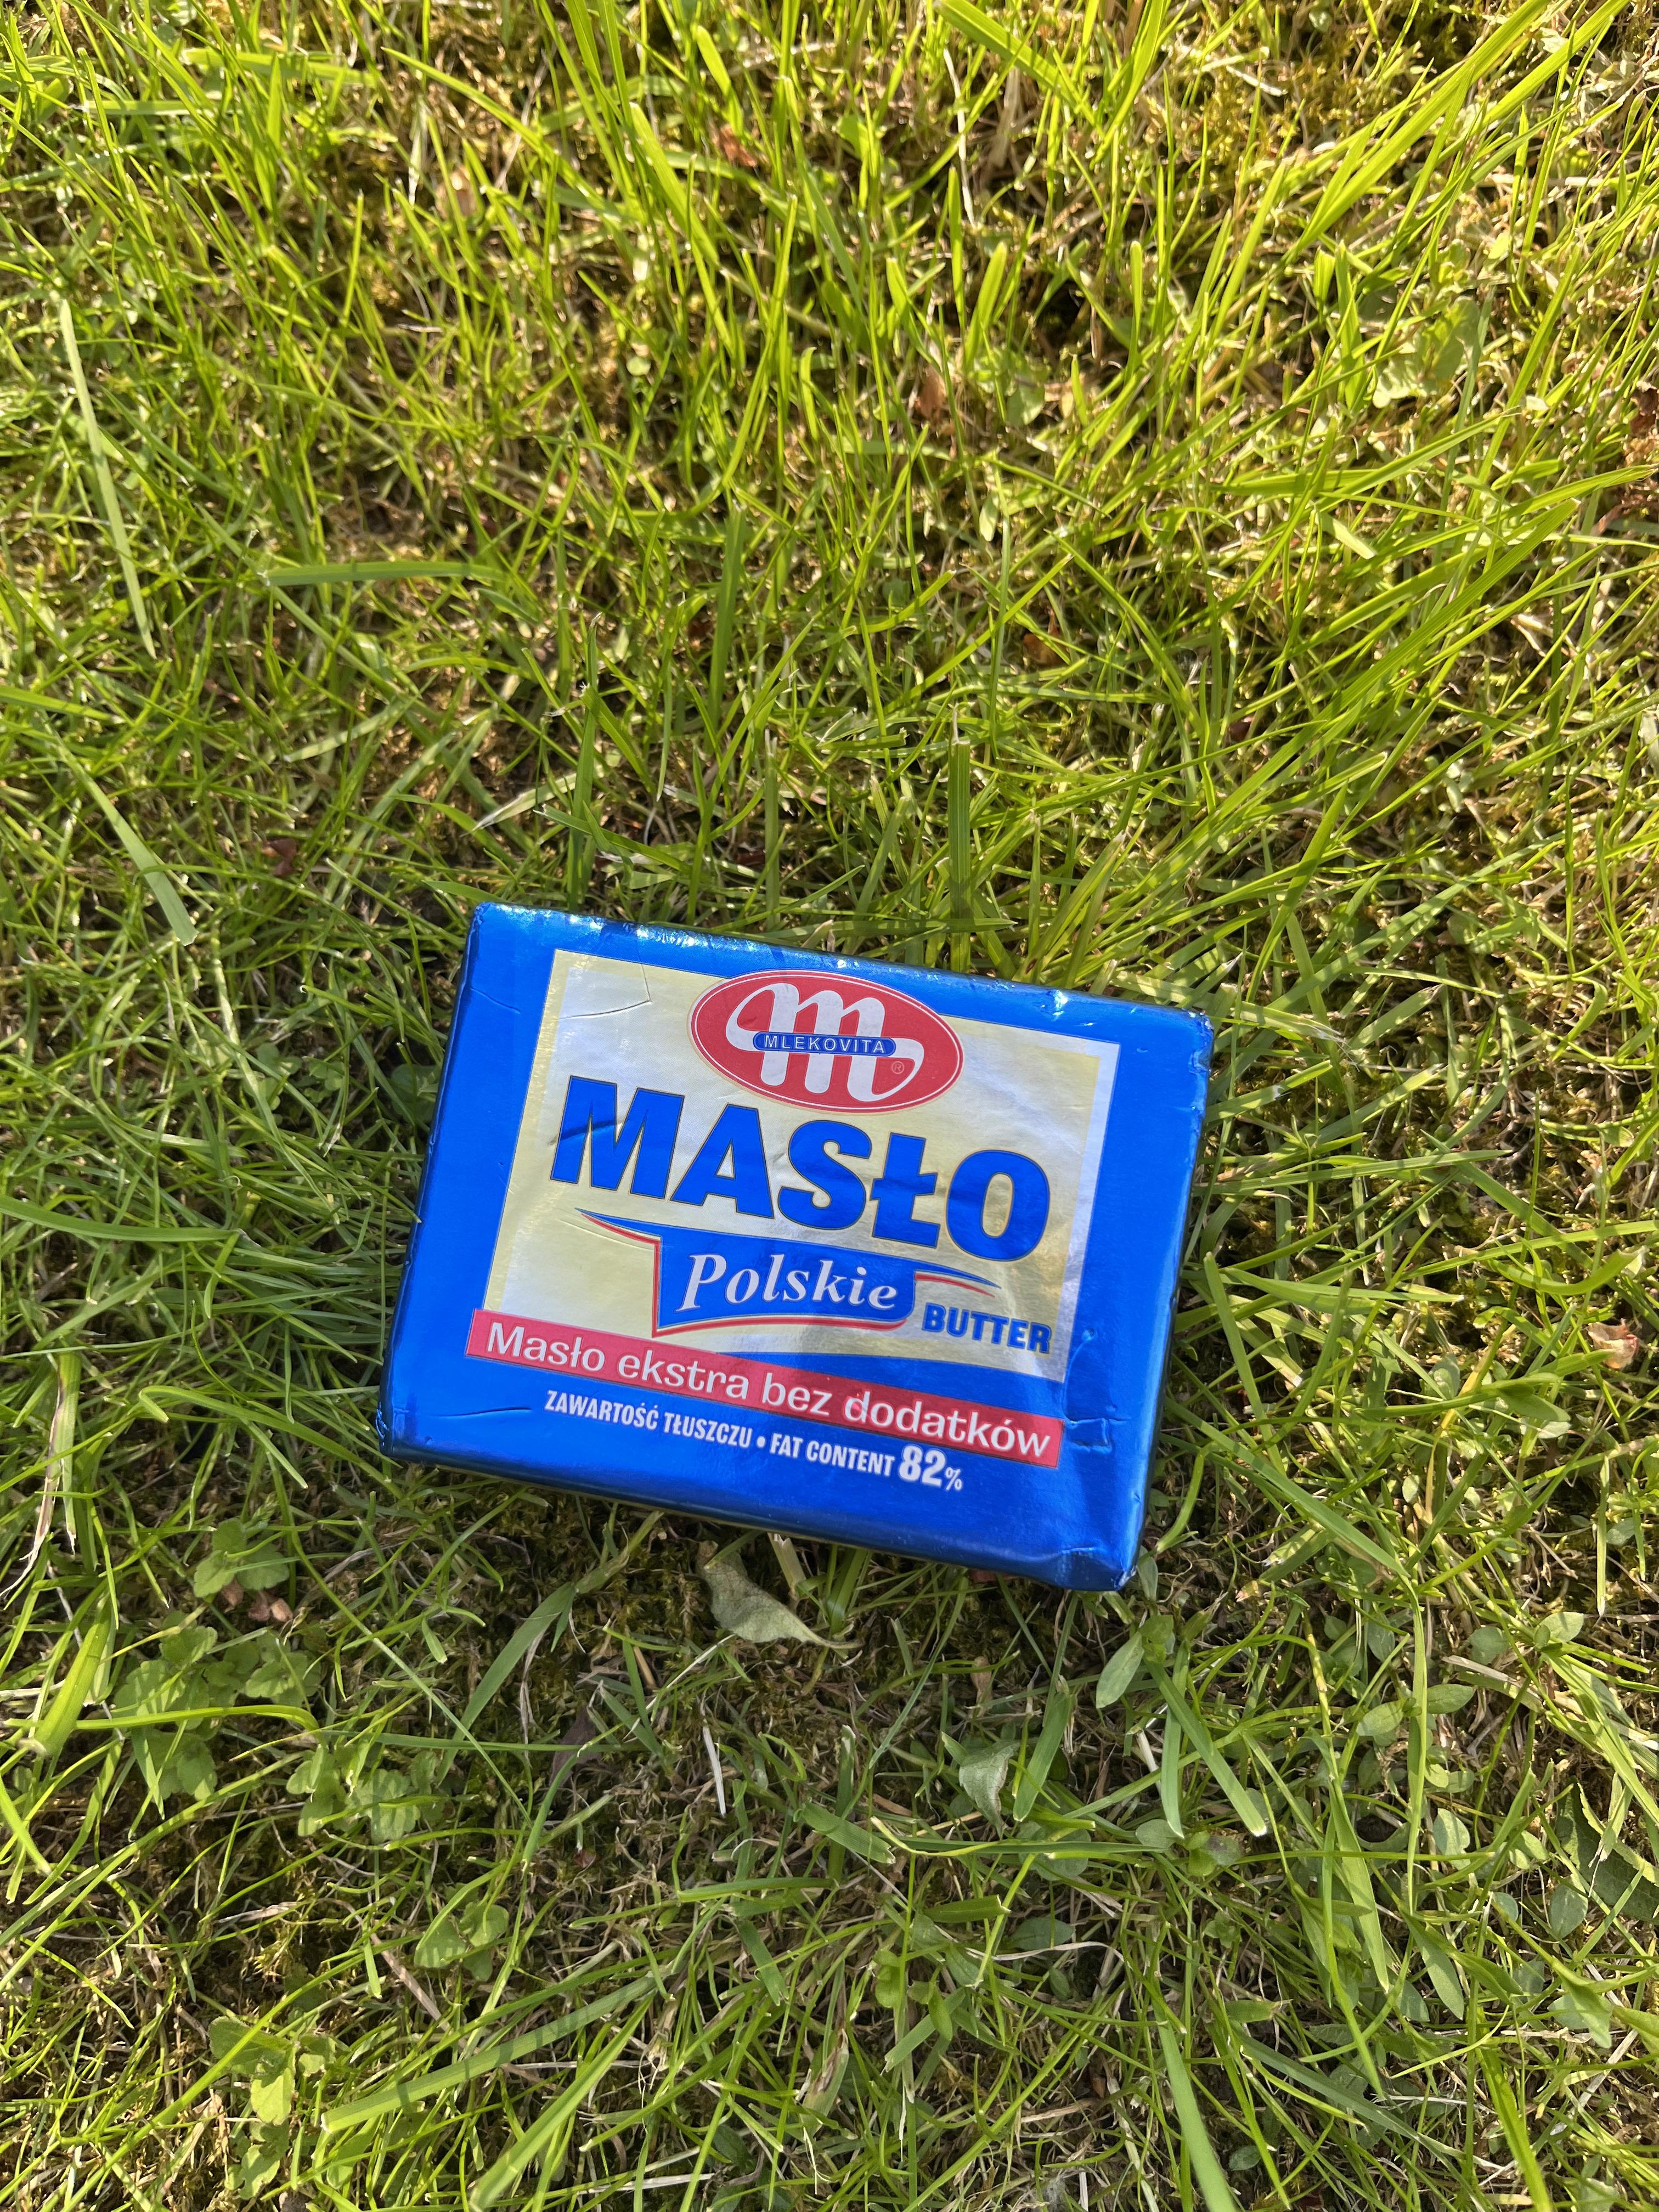Butter: (380, 890, 1220, 1616)
